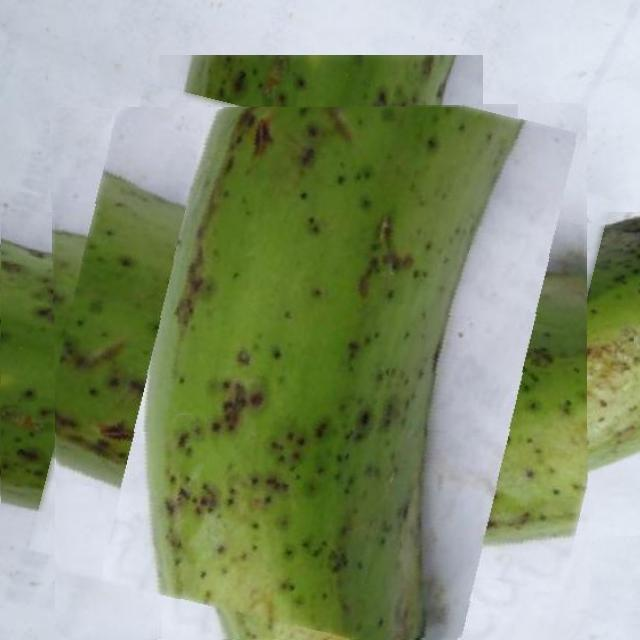Verde: (52, 104, 589, 640)
